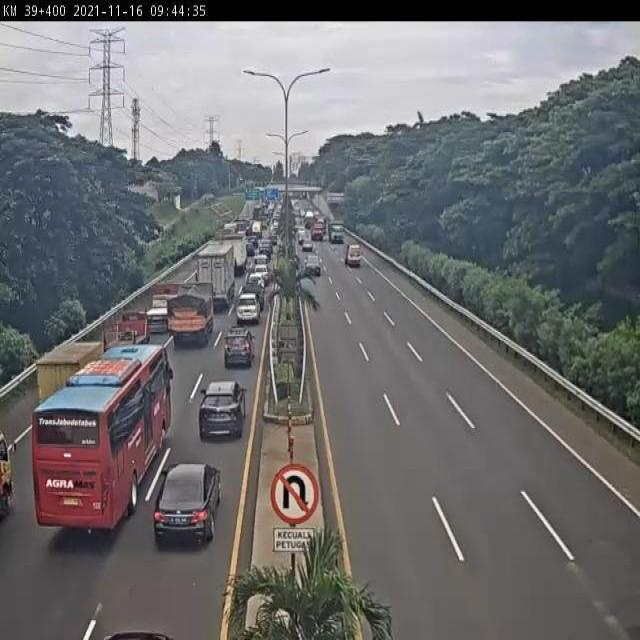big bus: (33, 343, 170, 525)
car: (155, 464, 220, 541), (199, 381, 243, 439), (224, 325, 253, 368), (236, 295, 258, 325), (242, 284, 265, 307), (247, 270, 266, 290)
small truck: (32, 342, 103, 414), (141, 282, 180, 334), (101, 312, 143, 359)
truck-l-: (196, 243, 238, 308)
truck-m-: (166, 284, 214, 343), (222, 236, 248, 272)
